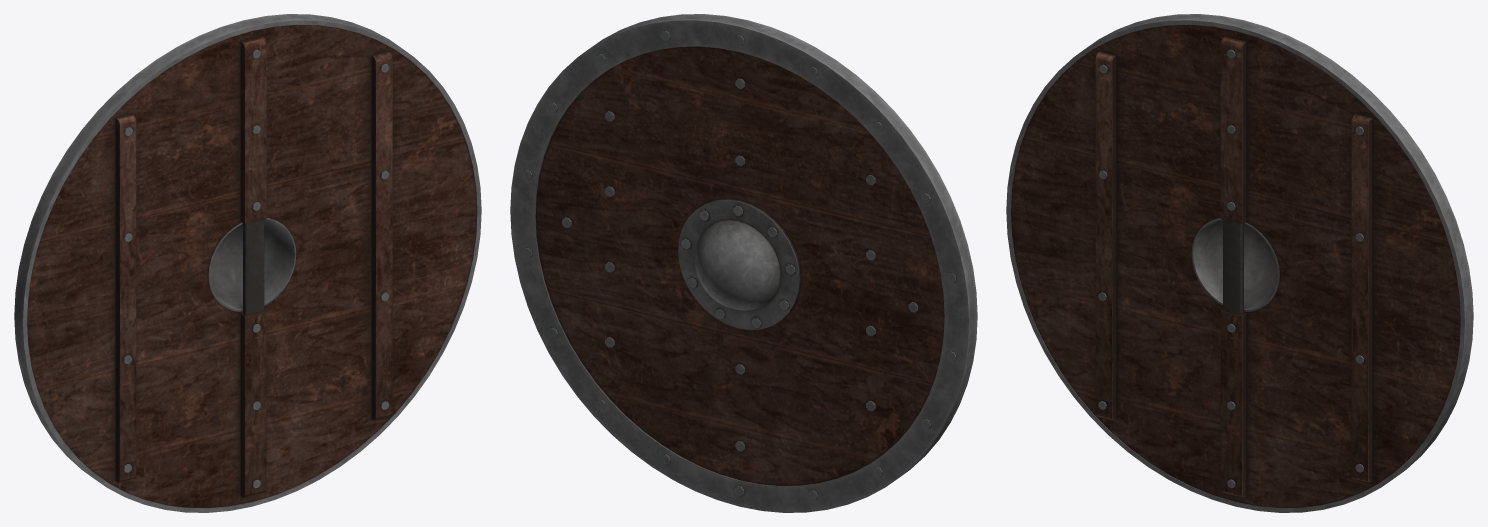
The model's file is Shield.glb.
The picture shows the model from 3 angles, left to right: view 1: azimuth 30°, elevation 25°; view 2: azimuth 150°, elevation 25°; view 3: azimuth 330°, elevation 25°; orthographic projection.
Parts seen in each view (by area): view 1: Shield; view 2: Shield; view 3: Shield.
Boxes of the visible parts, bbox=[...] form: Shield: bbox=[14, 14, 481, 512]; Shield: bbox=[510, 14, 977, 512]; Shield: bbox=[1006, 14, 1473, 512].
Bounding box in the file's own units: 2.6 × 2.6 × 0.321.
1 material, 1 textured.
